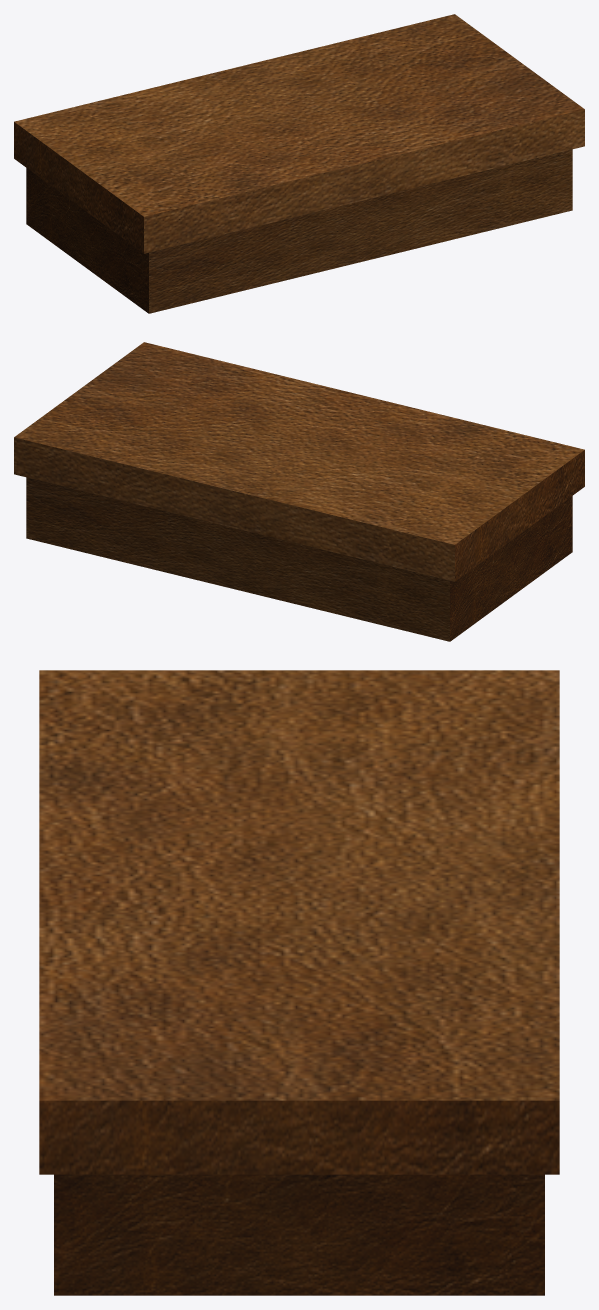
The model's file is mm9_deco_box02pantry.glb.
3 renders of one model, top to bottom at view 1: azimuth 30°, elevation 25°; view 2: azimuth 150°, elevation 25°; view 3: azimuth 270°, elevation 25°, orthographic. The views are drawn at different scales.
Visible parts, largest first — view 1: Box02pantry; view 2: Box02pantry; view 3: Box02pantry.
Boxes of the visible parts, x1,y1,x2,y2 form: Box02pantry: (14,14,584,313); Box02pantry: (14,342,584,641); Box02pantry: (39,670,559,1295).
Size of the model in its own units: 0.6764 by 0.1491 by 0.3458.
Materials: 1 (1 with a texture image).
